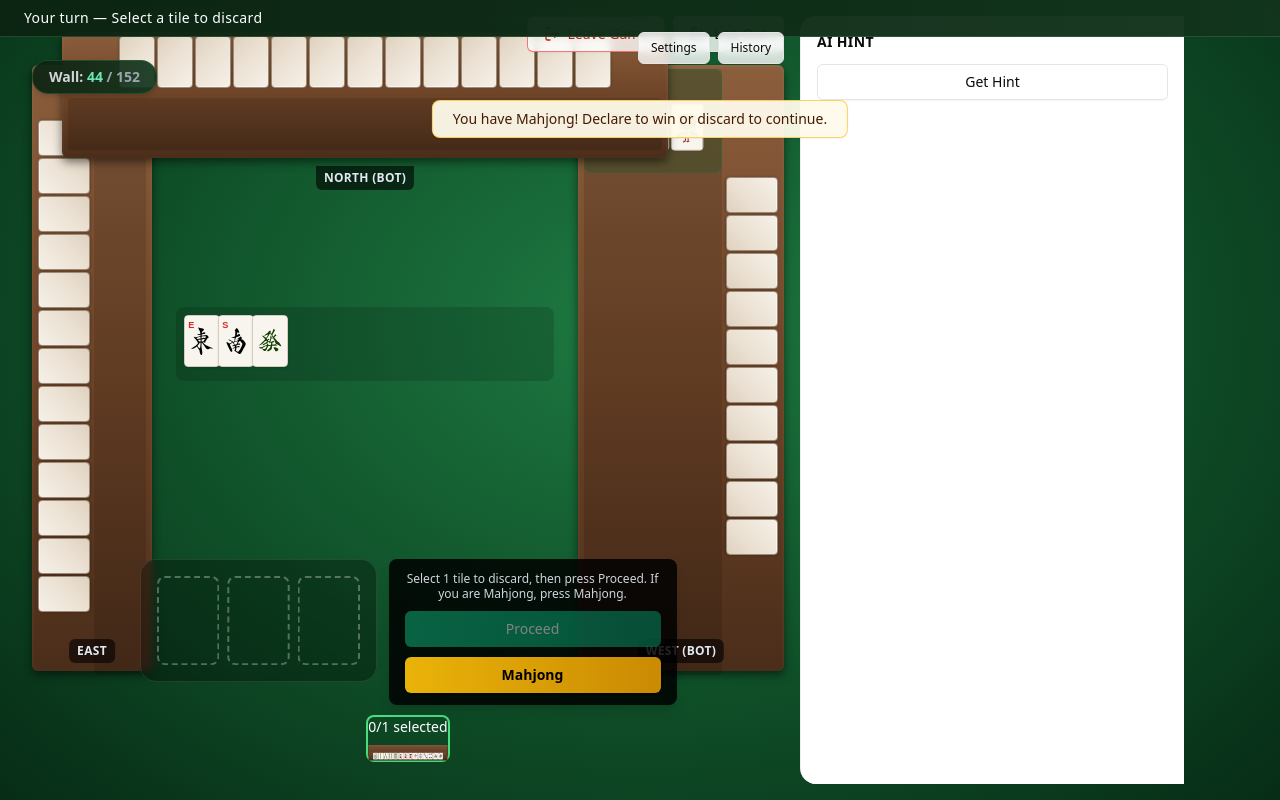
Test: US-055: Right Rail Hint Flow (Integration) › does not flash the old fixed hint panel after a snapshot remount
This screenshot has width=1280, height=800.
Click the button with test id "get-hint-button": (992, 82) [817, 64, 1168, 100]
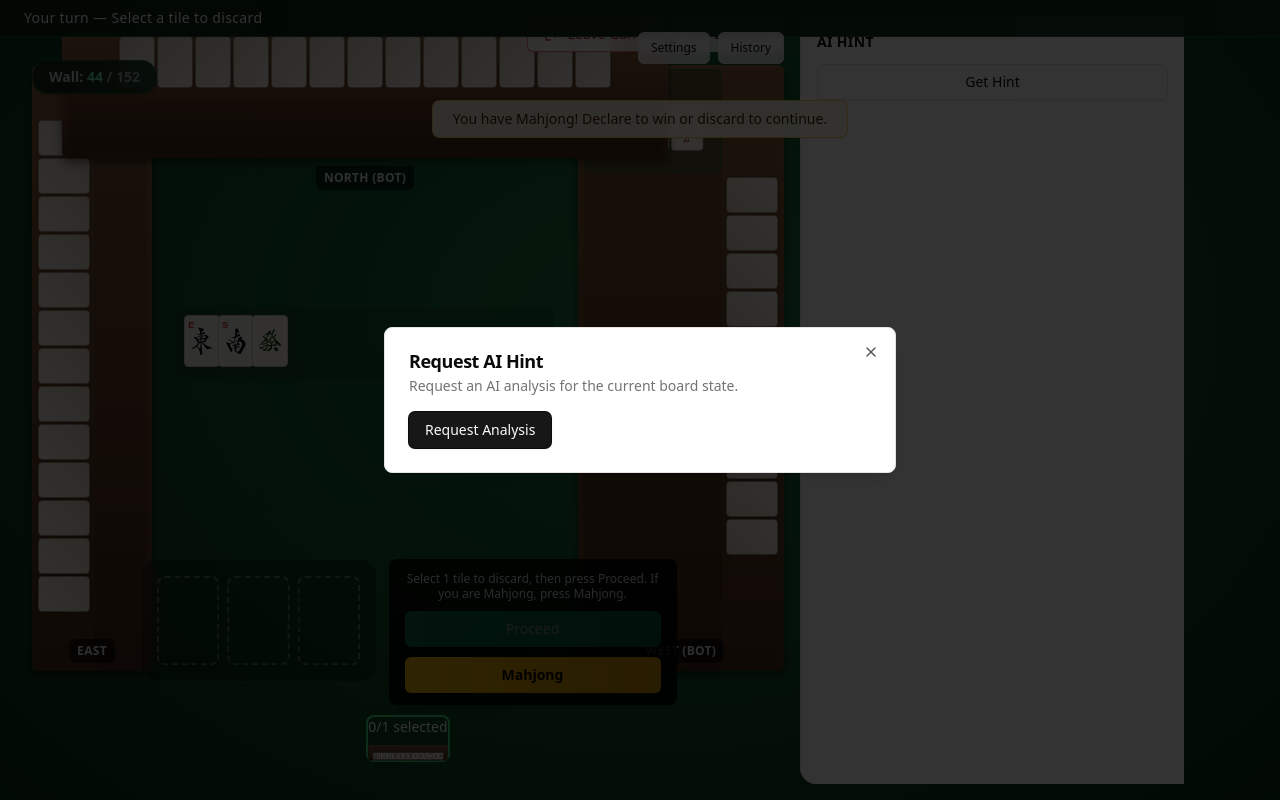
Click the button with test id "request-analysis-button": (480, 430) [409, 412, 551, 448]
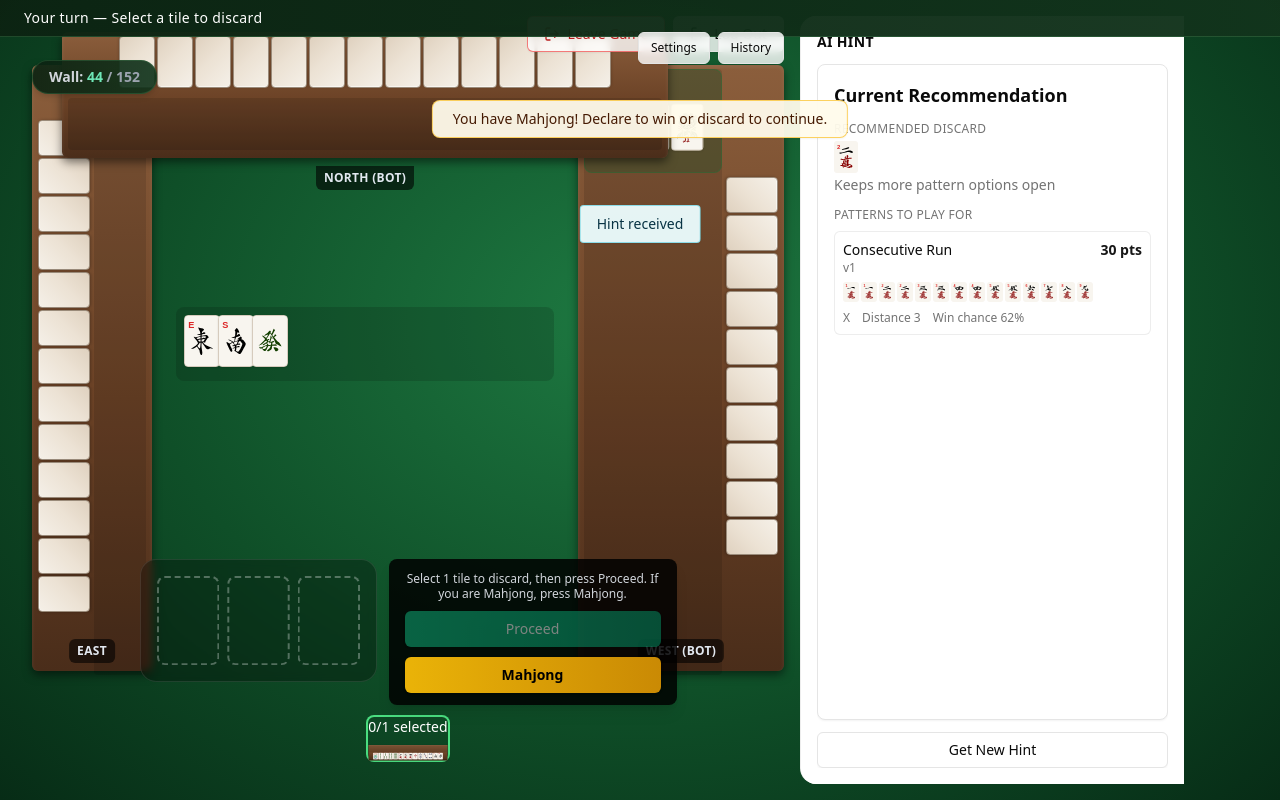
Expected: the element with test id "right-rail" is shown, [800, 16, 1184, 784]
Now the element with test id "hint-panel" is shown, box [817, 64, 1168, 720]
